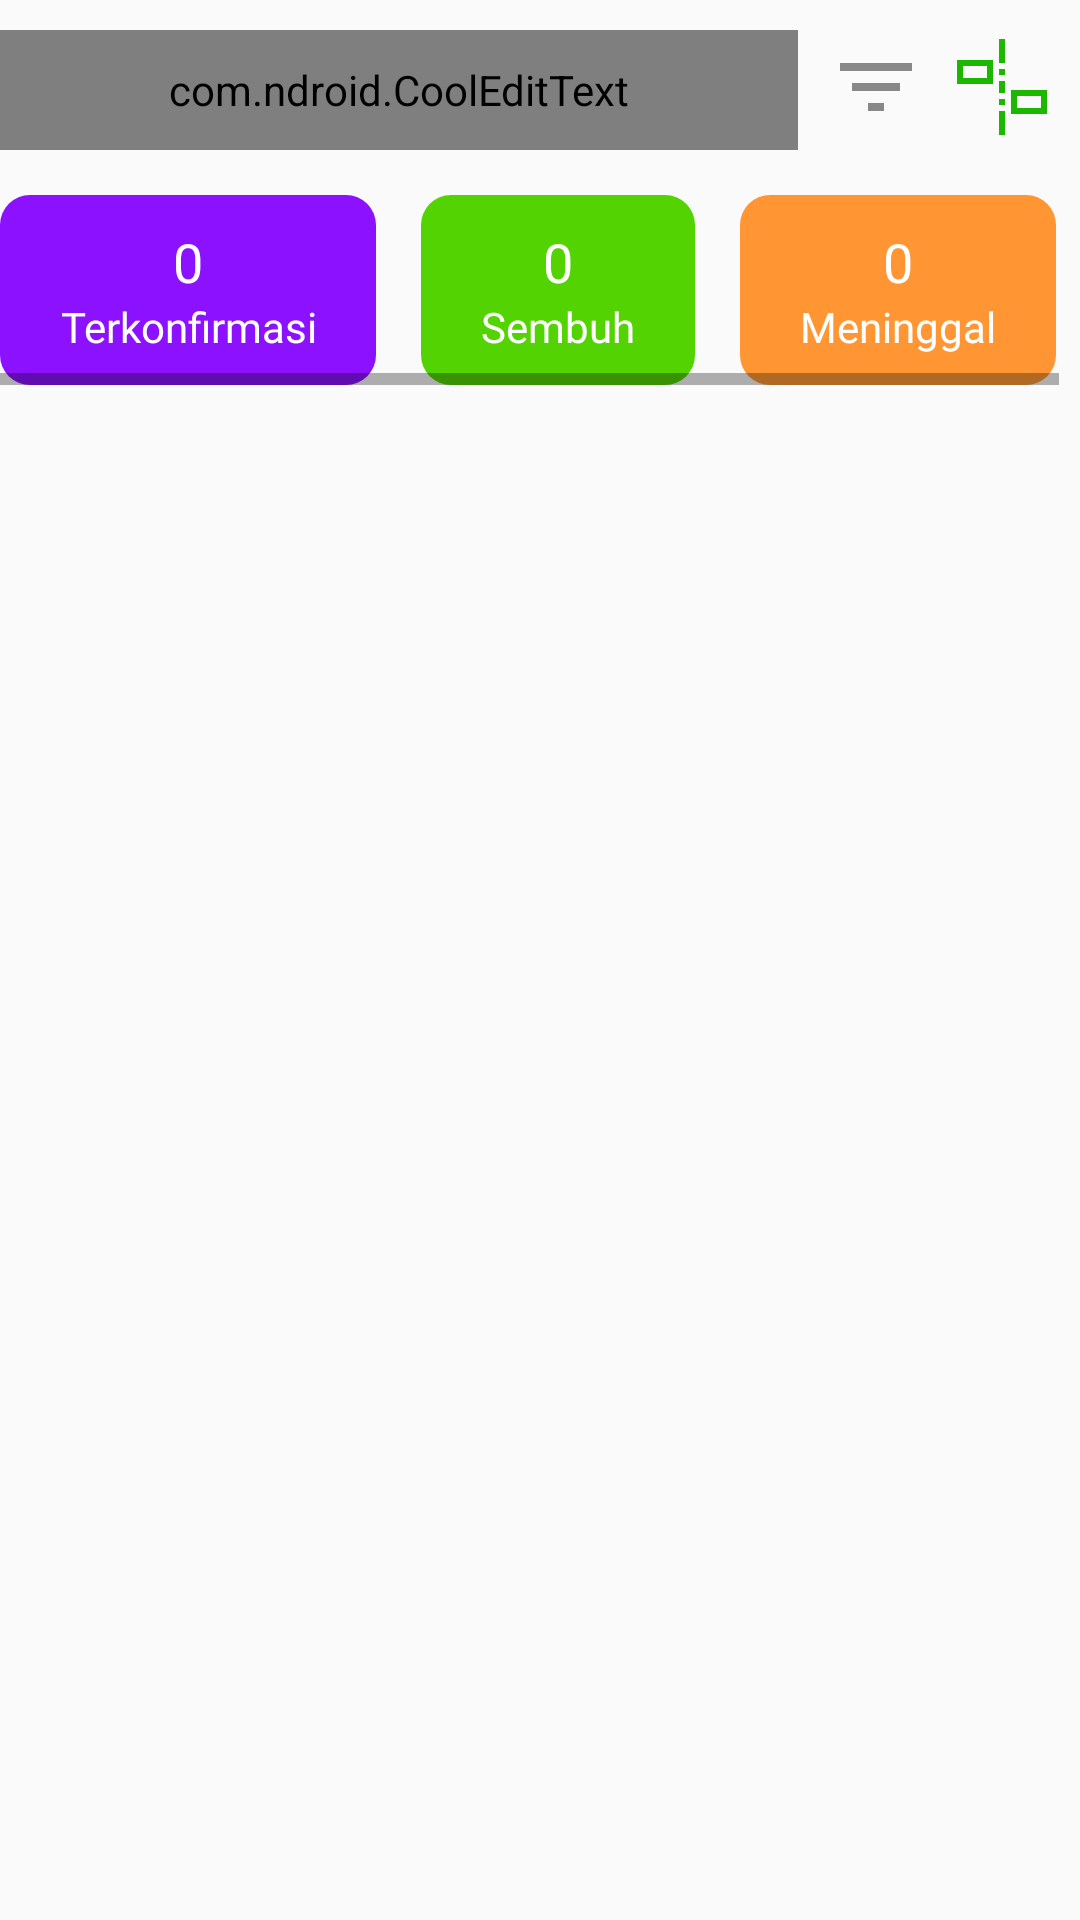

Icon bounding boxes for this 1080 × 1920 phone screenshot, format (x1, y1, x2, y2):
timeline: (957, 39, 1047, 135)
